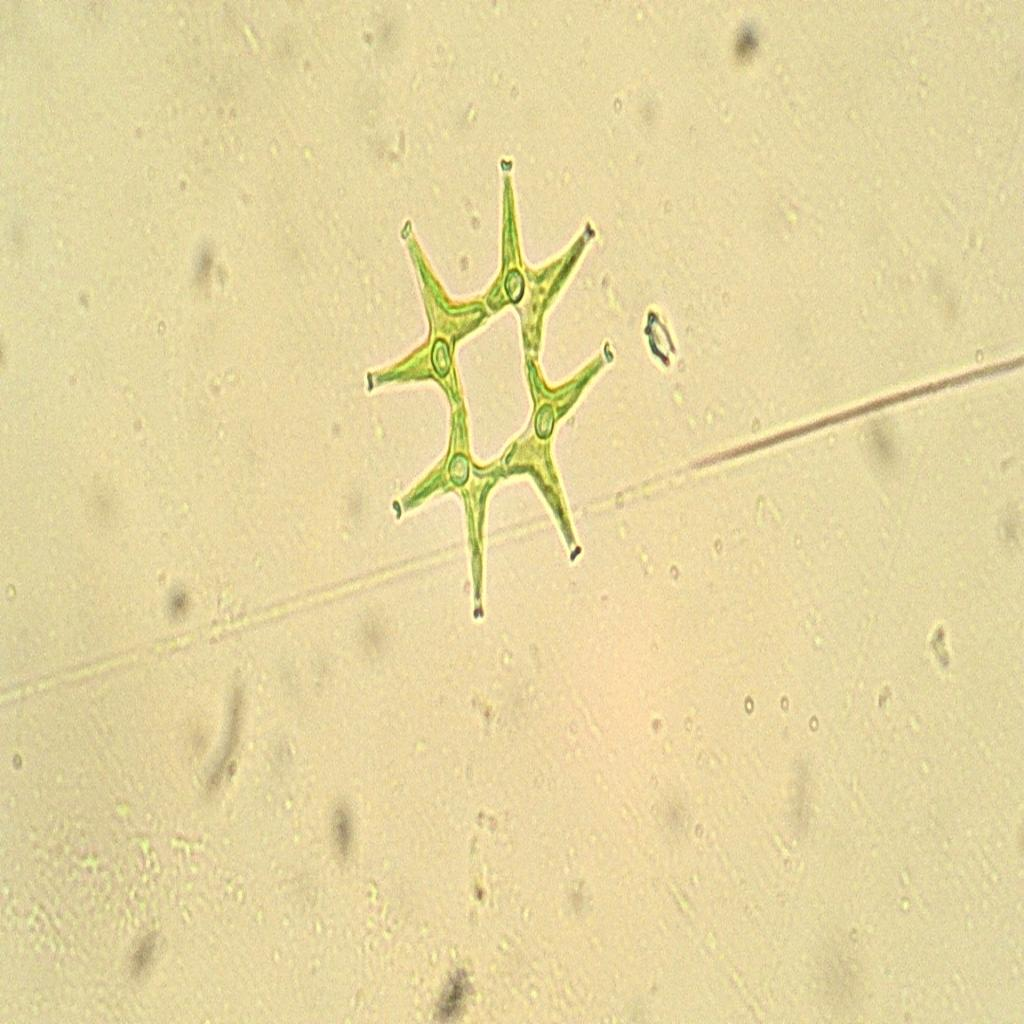Pediastrum_75O: (354, 134, 616, 638)
